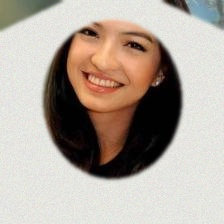Mukena: (0, 25, 224, 224)
